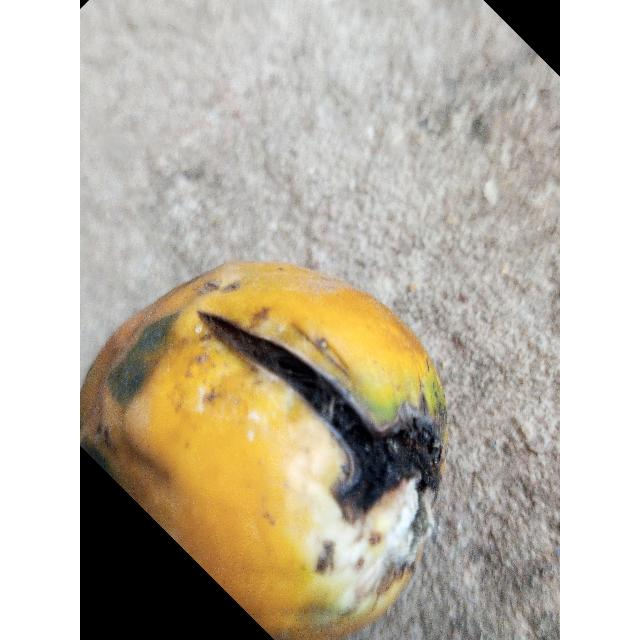damaged: (80, 262, 447, 640)
